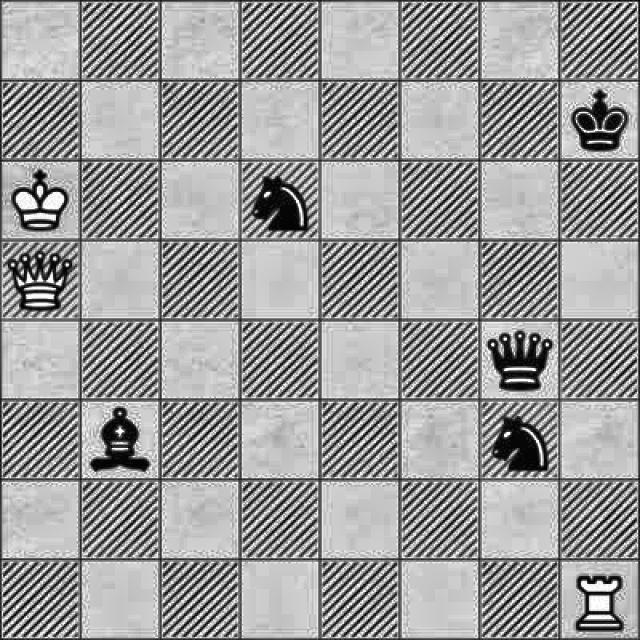Black Knight: (484, 401, 557, 479), (246, 168, 311, 238)
black bishop: (84, 403, 156, 478)
black king: (562, 81, 634, 155)
black queen: (481, 326, 560, 397)
white king: (0, 167, 77, 235)
white queen: (9, 243, 76, 314)
white rook: (562, 563, 630, 640)
